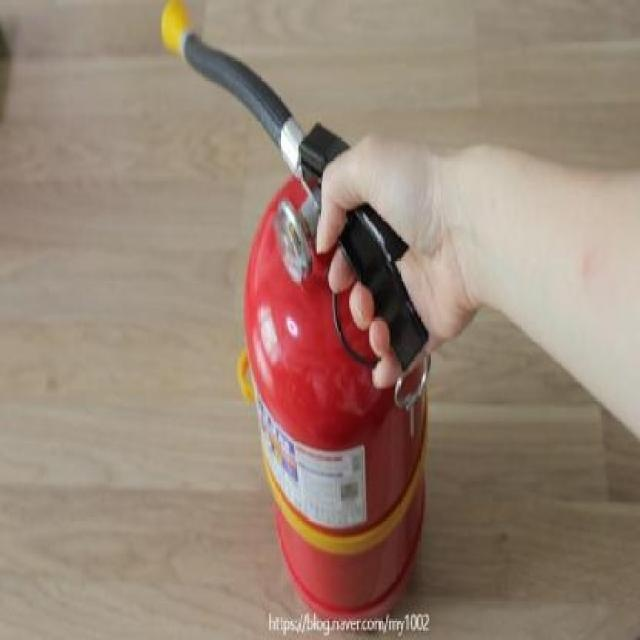fire extinguisher: (159, 0, 430, 626)
